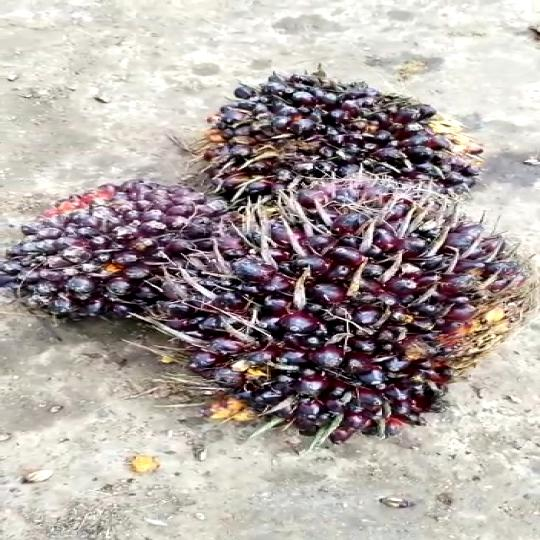kurang masak: (174, 160, 540, 470), (167, 63, 520, 222), (1, 151, 260, 329)
